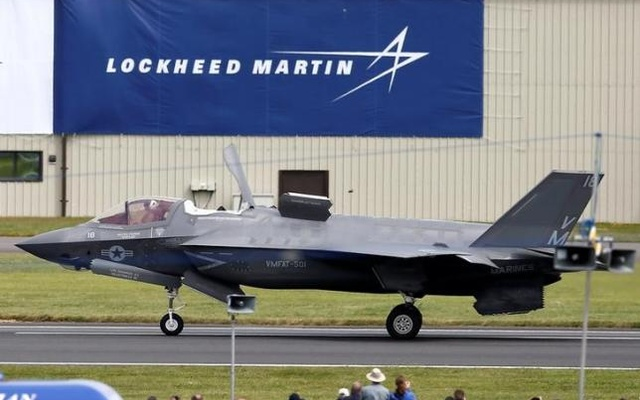F-35 Lightning: (24, 142, 631, 348)
